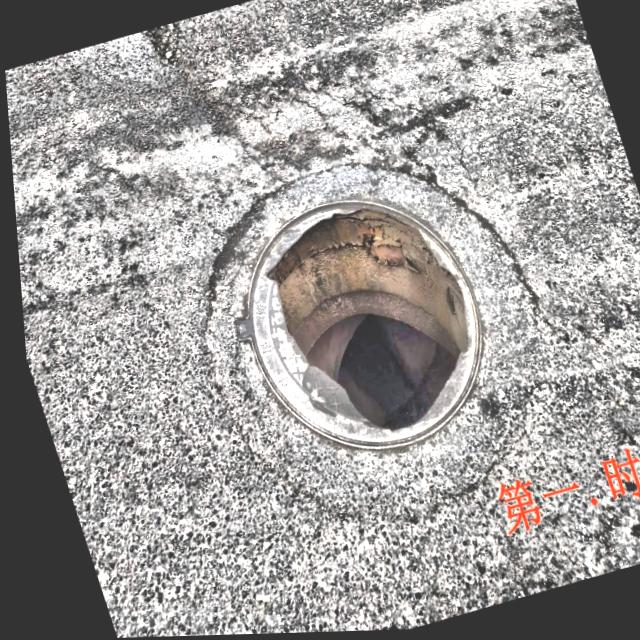Open Manhole: (228, 165, 502, 456)
